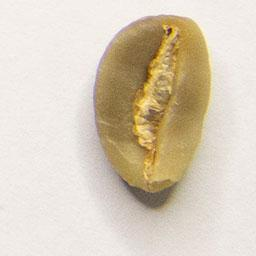longberry: (89, 11, 213, 195)
